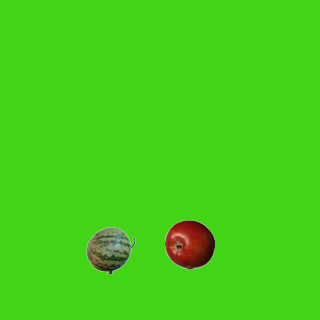Apple Braeburn: (164, 219, 214, 269)
Watermelon: (85, 225, 135, 275)
